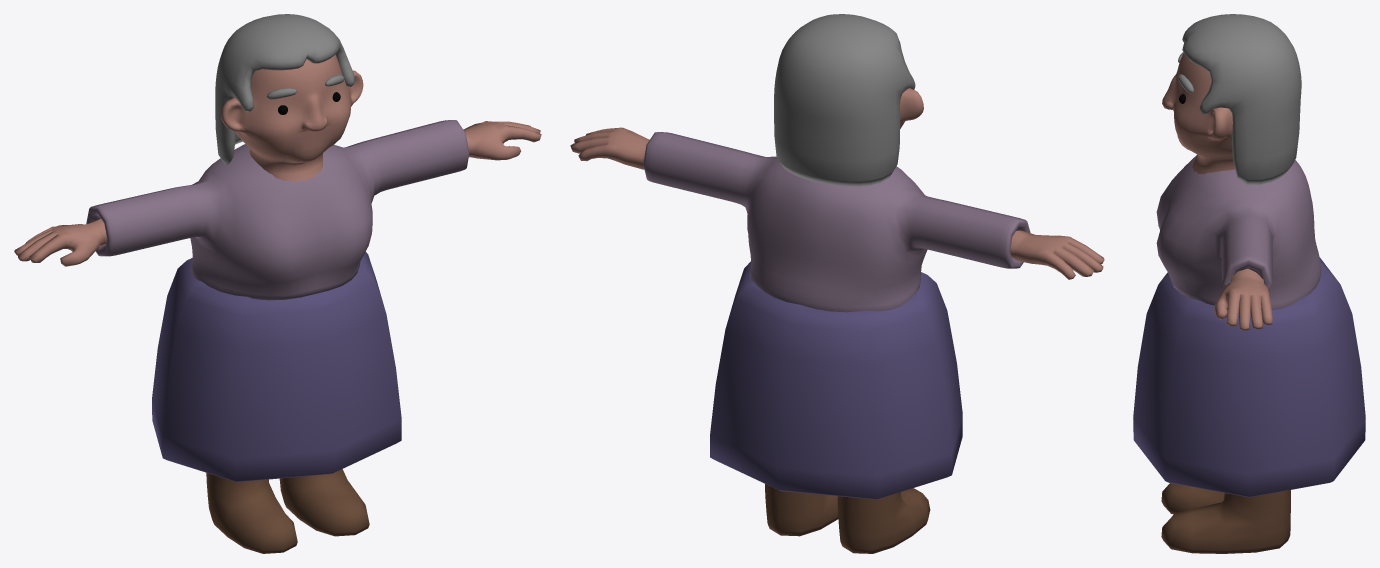
File: NPC_1_Female.fbx
The picture shows the model from 3 angles, left to right: view 1: azimuth 30°, elevation 25°; view 2: azimuth 150°, elevation 25°; view 3: azimuth 270°, elevation 25°; orthographic projection.
Visible parts, largest first — view 1: falda, cuerpo.003, cabeza.004, pies.003, cabeza.005, manos.003; view 2: falda, cuerpo.003, cabeza.005, pies.003, manos.003, cabeza.004; view 3: falda, cuerpo.003, cabeza.005, pies.003, cabeza.004, manos.003.
Part boxes in pixels (x1=…): falda: x1=152, y1=252, x2=401, y2=482; cuerpo.003: x1=86, y1=120, x2=469, y2=300; cabeza.004: x1=221, y1=54, x2=363, y2=181; pies.003: x1=206, y1=469, x2=369, y2=553; cabeza.005: x1=215, y1=14, x2=354, y2=165; manos.003: x1=14, y1=121, x2=541, y2=266; falda: x1=710, y1=261, x2=962, y2=499; cuerpo.003: x1=643, y1=132, x2=1030, y2=312; cabeza.005: x1=774, y1=14, x2=915, y2=186; pies.003: x1=765, y1=484, x2=930, y2=553; manos.003: x1=570, y1=127, x2=1104, y2=279; cabeza.004: x1=900, y1=88, x2=923, y2=128; falda: x1=1133, y1=257, x2=1365, y2=497; cuerpo.003: x1=1156, y1=154, x2=1321, y2=309; cabeza.005: x1=1182, y1=14, x2=1301, y2=185; pies.003: x1=1161, y1=483, x2=1290, y2=553; cabeza.004: x1=1162, y1=53, x2=1234, y2=174; manos.003: x1=1214, y1=268, x2=1272, y2=330.
Bounding box in the file's own units: 1.63 × 1.48 × 0.6207.
